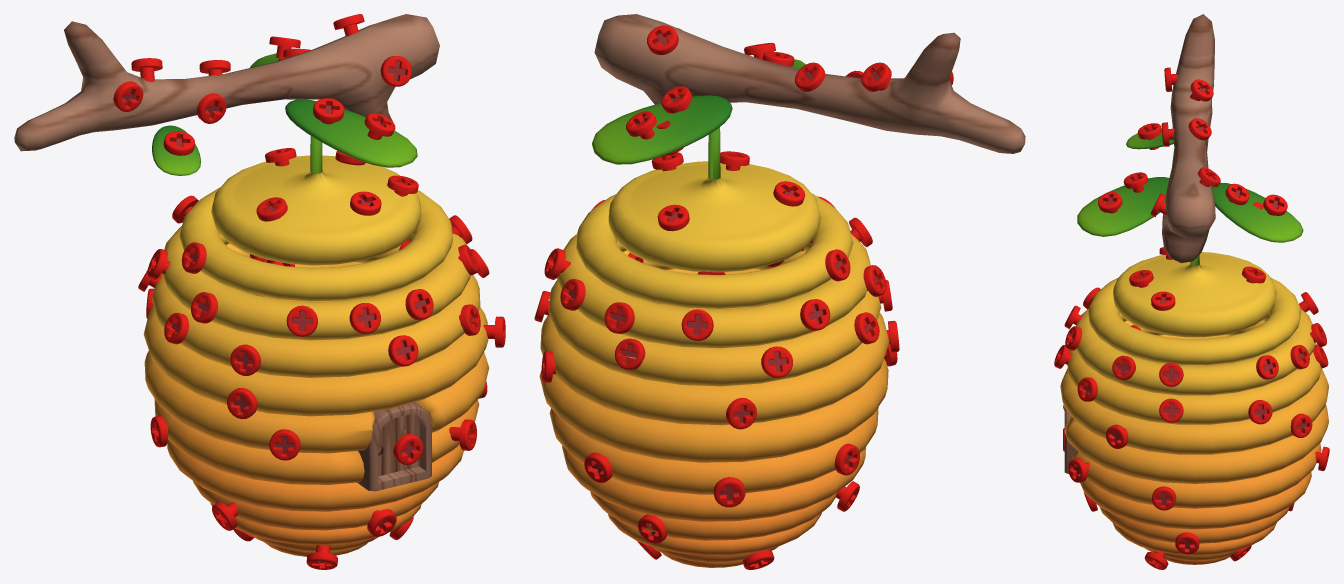
The model's file is level_3.fbx.
The picture shows the model from 3 angles, left to right: view 1: azimuth 30°, elevation 25°; view 2: azimuth 150°, elevation 25°; view 3: azimuth 270°, elevation 25°; orthographic projection. The views are drawn at different scales.
Parts seen in each view (by area): view 1: Torus.007, Torus.003, Cube.021, Torus.011, Torus.009, Cube.022, Cube.012, Cube.013, Torus.012, obj_screw.072, obj_screw.098, obj_screw.042 (+17 smaller); view 2: Torus.003, Torus.007, Cube.021, Torus.011, Torus.009, Cube.001, Torus.012, obj_screw.033, obj_screw.032, obj_screw.074, obj_screw.034, obj_screw.031 (+15 smaller); view 3: Torus.003, Torus.007, Torus.011, Cube.021, Torus.009, Cube.012, Cube.001, Torus.012, obj_screw.046, obj_screw.038, obj_screw.070, obj_screw.037 (+17 smaller).
Part boxes in pixels (bbox=[...]): Torus.007: bbox=[152, 187, 480, 377]; Torus.003: bbox=[143, 262, 489, 484]; Cube.021: bbox=[14, 14, 439, 151]; Torus.011: bbox=[211, 136, 421, 265]; Torus.009: bbox=[167, 440, 463, 545]; Cube.022: bbox=[357, 402, 431, 491]; Cube.012: bbox=[285, 99, 417, 167]; Cube.013: bbox=[152, 125, 200, 175]; Torus.012: bbox=[253, 536, 378, 556]; obj_screw.072: bbox=[269, 429, 300, 460]; obj_screw.098: bbox=[380, 56, 411, 86]; obj_screw.042: bbox=[349, 303, 380, 333]; Torus.003: bbox=[539, 268, 889, 494]; Torus.007: bbox=[548, 193, 881, 386]; Cube.021: bbox=[594, 14, 1025, 153]; Torus.011: bbox=[608, 127, 820, 272]; Torus.009: bbox=[562, 445, 865, 555]; Cube.001: bbox=[592, 95, 732, 164]; Torus.012: bbox=[653, 546, 778, 567]; obj_screw.033: bbox=[681, 309, 713, 340]; obj_screw.032: bbox=[761, 346, 792, 377]; obj_screw.074: bbox=[713, 477, 745, 507]; obj_screw.034: bbox=[604, 302, 634, 333]; obj_screw.031: bbox=[800, 299, 830, 330]; Torus.003: bbox=[1060, 334, 1328, 508]; Torus.007: bbox=[1067, 278, 1321, 424]; Torus.011: bbox=[1113, 252, 1276, 337]; Cube.021: bbox=[1162, 14, 1215, 263]; Torus.009: bbox=[1080, 472, 1311, 555]; Cube.012: bbox=[1077, 177, 1169, 236]; Cube.001: bbox=[1211, 182, 1303, 242]; Torus.012: bbox=[1145, 548, 1237, 564]; obj_screw.046: bbox=[1159, 398, 1183, 422]; obj_screw.038: bbox=[1159, 362, 1183, 386]; obj_screw.070: bbox=[1151, 486, 1176, 510]; obj_screw.037: bbox=[1248, 400, 1272, 424].
Size of the model in its own units: 12.45 by 15.05 by 8.3.
